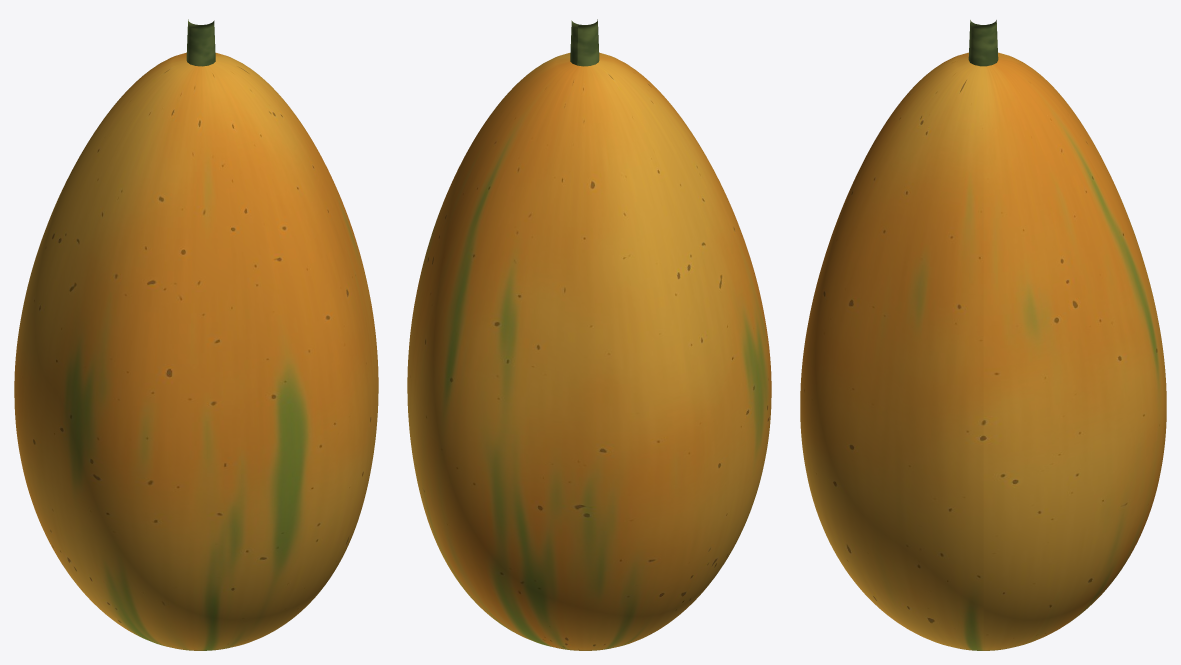
Rendered from papaye.glb.
3 views of the same model, side by side, from view 1: azimuth 30°, elevation 25°; view 2: azimuth 150°, elevation 25°; view 3: azimuth 270°, elevation 25° (orthographic).
Parts seen in each view (by area): view 1: moitie_A_peau, entier_peau, moitie_B_peau, entier_extra0; view 2: moitie_B_peau, entier_peau, moitie_A_peau, entier_extra0; view 3: entier_peau, moitie_A_peau, moitie_B_peau, entier_extra0.
Part boxes in pixels (x1,y1,x2,y2): moitie_A_peau: [49, 57, 378, 650]; entier_peau: [14, 52, 378, 650]; moitie_B_peau: [14, 53, 242, 615]; entier_extra0: [186, 19, 215, 66]; moitie_B_peau: [407, 57, 736, 650]; entier_peau: [407, 52, 771, 650]; moitie_A_peau: [543, 53, 771, 615]; entier_extra0: [570, 19, 599, 66]; entier_peau: [800, 53, 1166, 650]; moitie_A_peau: [800, 52, 983, 650]; moitie_B_peau: [983, 52, 1166, 650]; entier_extra0: [968, 20, 998, 66].
Size of the model in its own units: 0.0961 by 0.181 by 0.0972.
Materials: 3 (3 with a texture image).
